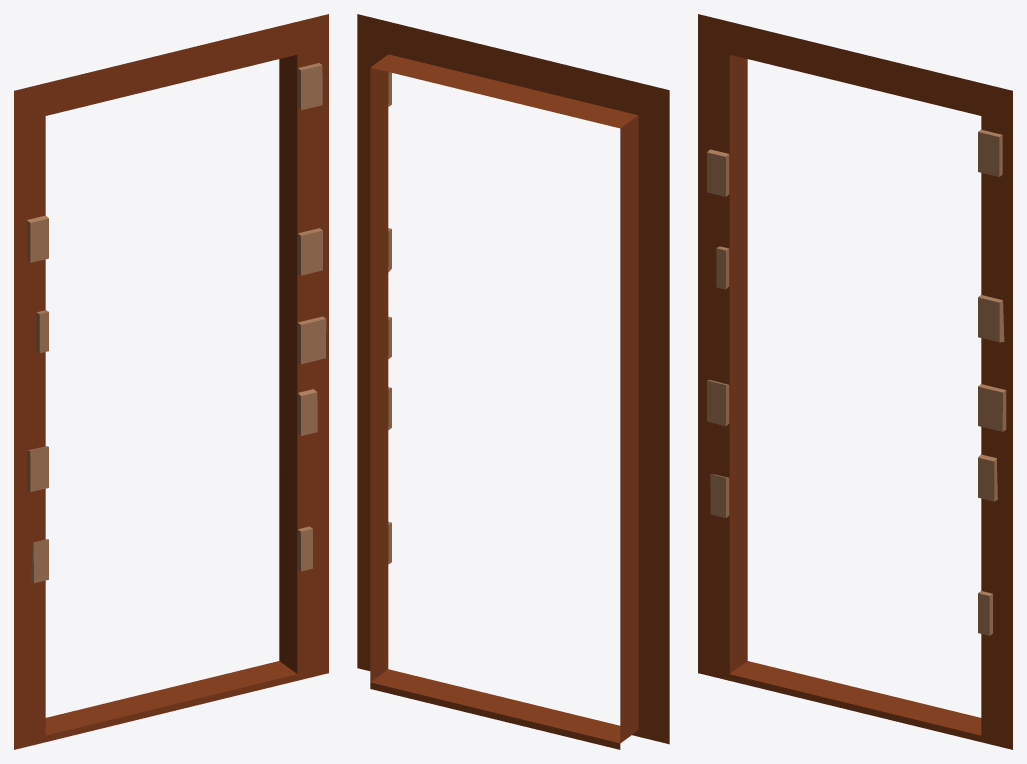
File: Ext-BrickV2Doorframe.fbx
3 views of the same model, side by side, from view 1: azimuth 30°, elevation 25°; view 2: azimuth 150°, elevation 25°; view 3: azimuth 330°, elevation 25° (orthographic).
Parts seen in each view (by area): view 1: Ext-BrickV2Doorframe; view 2: Ext-BrickV2Doorframe; view 3: Ext-BrickV2Doorframe.
Part boxes in pixels (left/top/right/bottom): Ext-BrickV2Doorframe: left=14, top=14, right=328, bottom=749; Ext-BrickV2Doorframe: left=357, top=14, right=669, bottom=749; Ext-BrickV2Doorframe: left=698, top=14, right=1012, bottom=749.
Size of the model in its own units: 100 by 200 by 12.
